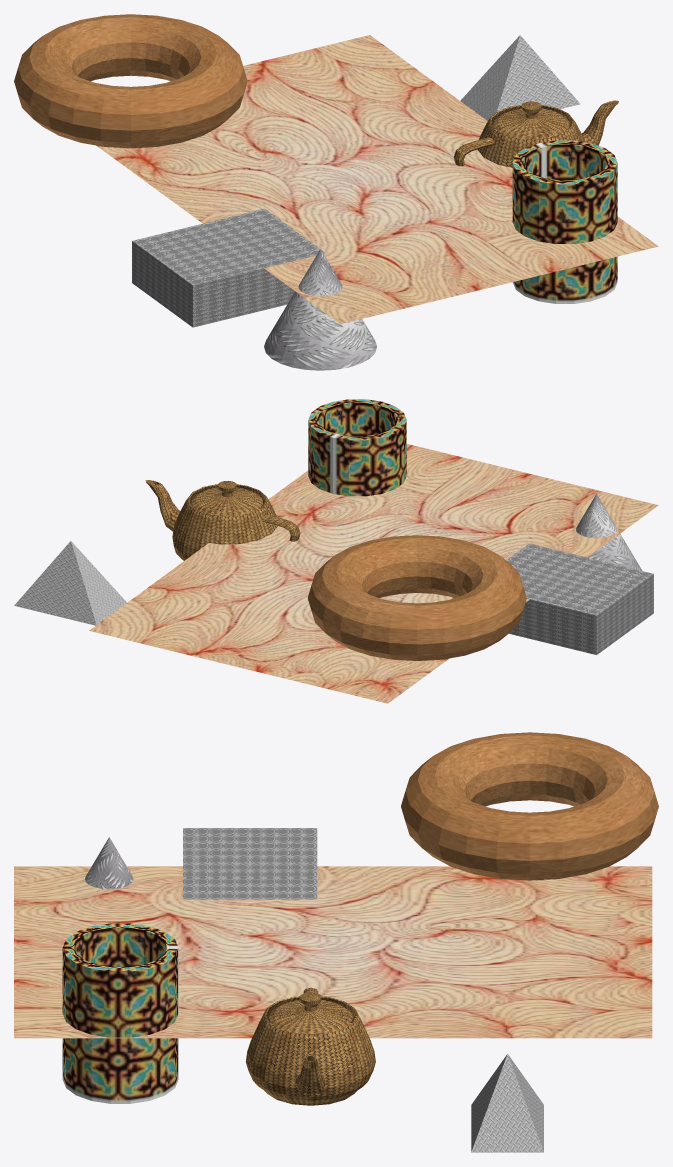
File: escena.dae
3 renders of one model, top to bottom at view 1: azimuth 30°, elevation 25°; view 2: azimuth 150°, elevation 25°; view 3: azimuth 270°, elevation 25°, orthographic. The views are drawn at different scales.
Visible parts, largest first — view 1: Plane001, Torus001, Box001, Tube001, Cone001, Teapot001, Pyramid001; view 2: Plane001, Torus001, Box001, Tube001, Teapot001, Pyramid001, Cone001; view 3: Plane001, Torus001, Tube001, Teapot001, Box001, Pyramid001, Cone001.
Boxes of the visible parts, x1=… form: Plane001: x1=97, y1=35, x2=658, y2=323; Torus001: x1=14, y1=14, x2=247, y2=148; Box001: x1=132, y1=208, x2=325, y2=327; Tube001: x1=512, y1=140, x2=617, y2=303; Cone001: x1=264, y1=249, x2=376, y2=370; Teapot001: x1=454, y1=100, x2=618, y2=167; Pyramid001: x1=460, y1=35, x2=580, y2=120; Plane001: x1=89, y1=444, x2=658, y2=703; Torus001: x1=307, y1=535, x2=526, y2=660; Box001: x1=506, y1=543, x2=653, y2=654; Tube001: x1=308, y1=399, x2=406, y2=496; Teapot001: x1=145, y1=480, x2=300, y2=560; Pyramid001: x1=14, y1=541, x2=126, y2=625; Cone001: x1=576, y1=494, x2=642, y2=570; Plane001: x1=14, y1=866, x2=652, y2=1038; Torus001: x1=401, y1=732, x2=658, y2=880; Tube001: x1=62, y1=923, x2=178, y2=1103; Teapot001: x1=246, y1=987, x2=375, y2=1105; Box001: x1=183, y1=828, x2=317, y2=899; Pyramid001: x1=471, y1=1054, x2=543, y2=1152; Cone001: x1=85, y1=837, x2=133, y2=889.
Bounding box in the file's own units: 14.1 × 13.59 × 3.95.
